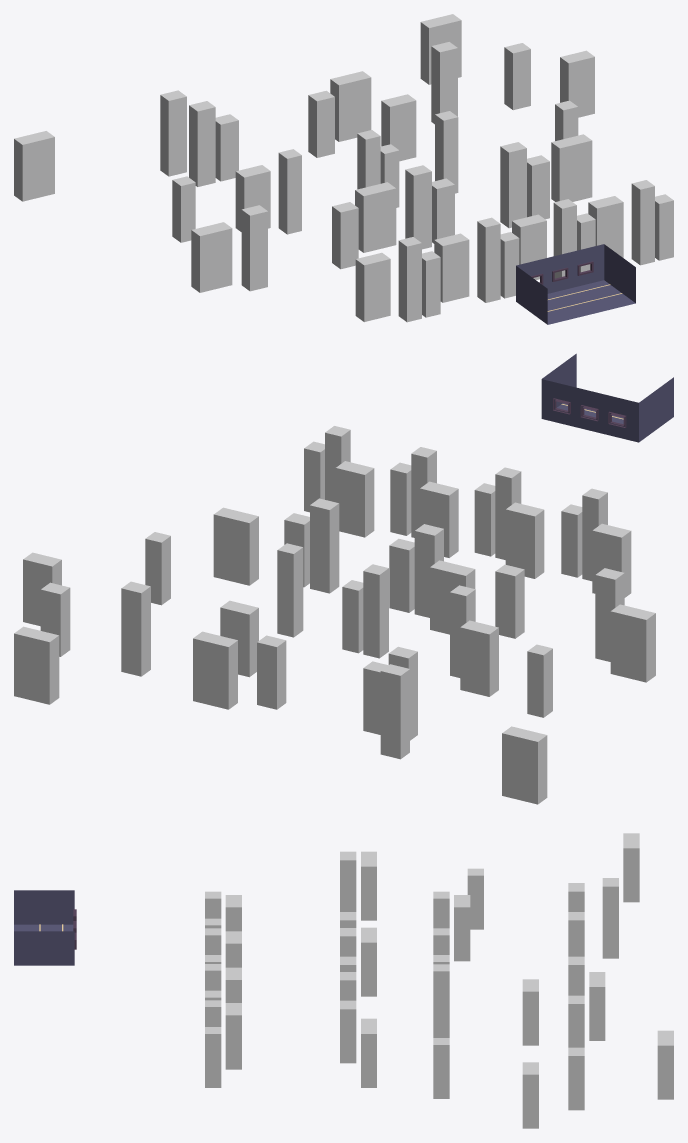
The model's file is Building.fbx.
3 views of the same model, one above another, from view 1: azimuth 30°, elevation 25°; view 2: azimuth 150°, elevation 25°; view 3: azimuth 270°, elevation 25° (orthographic). The views are drawn at different scales.
Visible parts, largest first — view 1: Background, BuildingWalls, Building; view 2: Background, BuildingWalls; view 3: Background, BuildingWalls, Building.
Part boxes in pixels (x1,y1,x2,y2): Background: (14,14,673,322); BuildingWalls: (516,244,635,324); Building: (547,280,635,324); Background: (14,426,655,804); BuildingWalls: (541,353,673,442); Background: (205,833,673,1128); BuildingWalls: (14,890,76,965); Building: (14,924,73,931).
Bounding box in the file's own units: 188 × 33.63 × 218.
